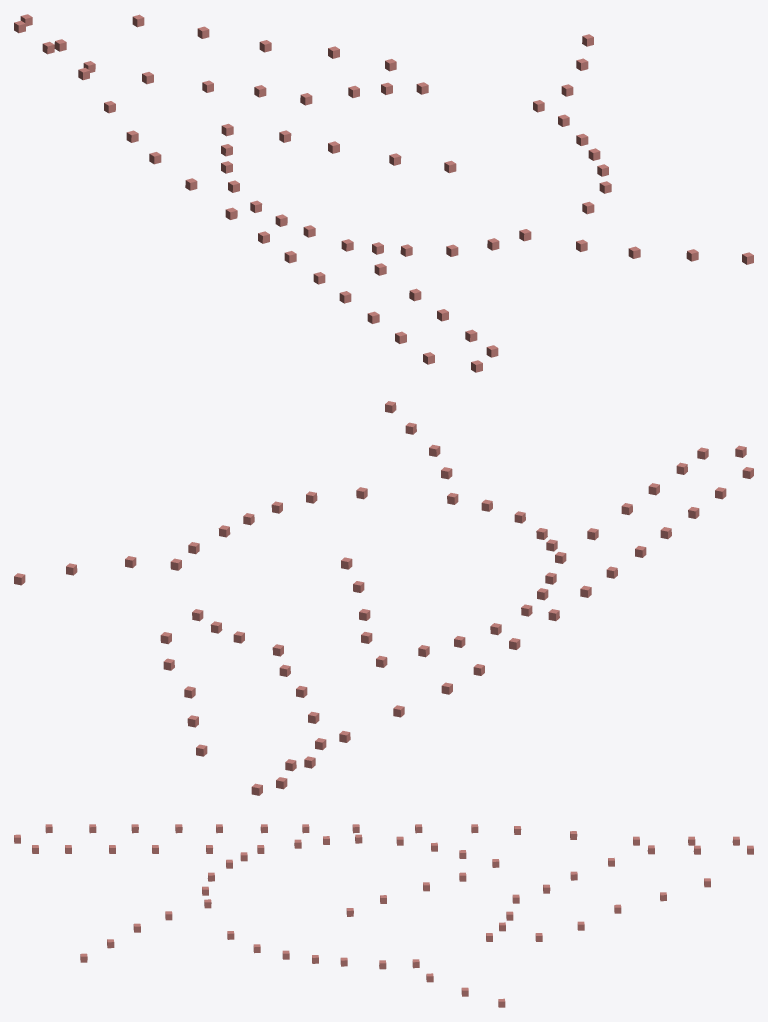
File: feet_circle.dae
3 views of the same model, one above another, from view 1: azimuth 30°, elevation 25°; view 2: azimuth 150°, elevation 25°; view 3: azimuth 270°, elevation 25° (orthographic). The views are drawn at different scales.
Bounding box in the file's own units: 24.59 × 44.23 × 0.6623.
